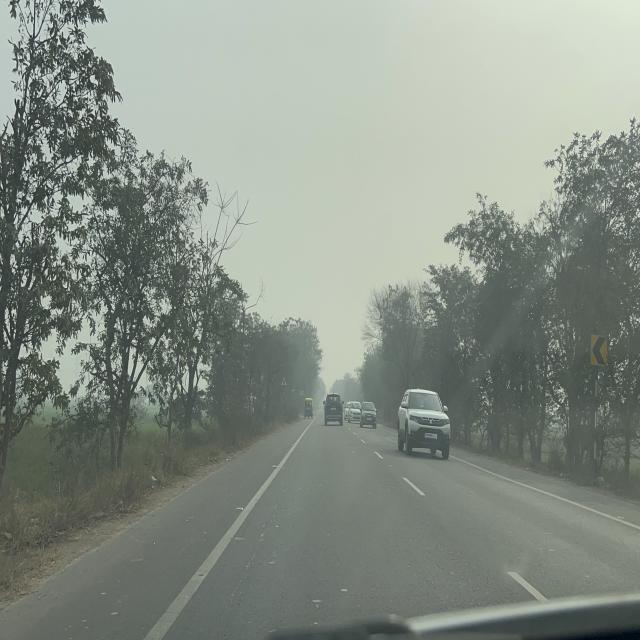SIDE_ROAD_RIGHT: (281, 376, 287, 386)
TURN_LEFT: (589, 332, 607, 367)
